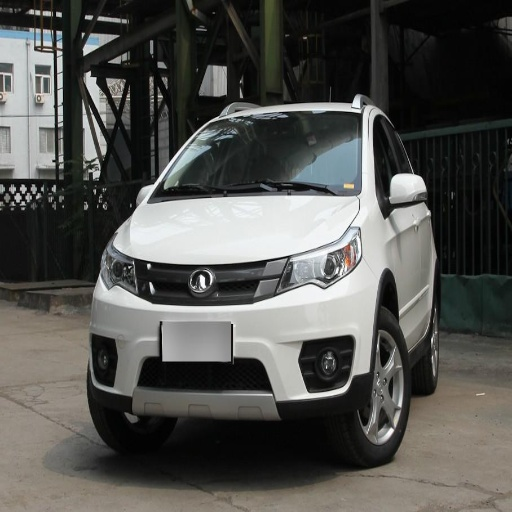front_bumper: (89, 256, 375, 418)
front_glass: (148, 113, 361, 202)
front_left_door: (371, 115, 424, 344)
front_right_light: (102, 240, 141, 294)
